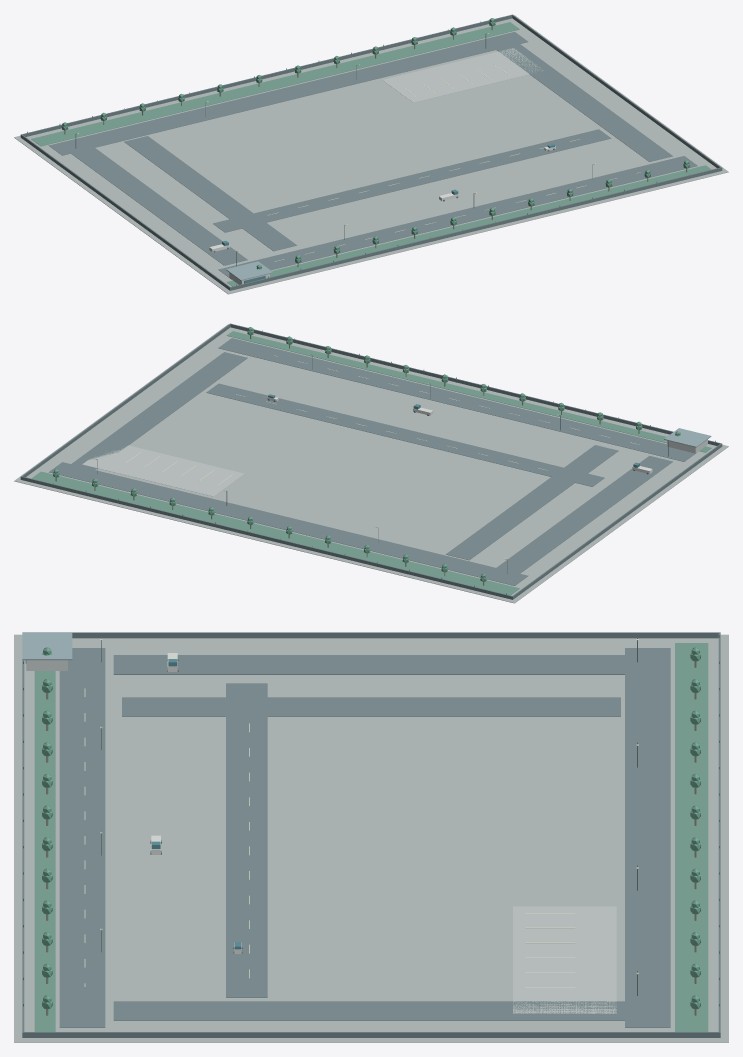
File: ground.glb
The picture shows the model from 3 angles, top to bottom: view 1: azimuth 30°, elevation 25°; view 2: azimuth 150°, elevation 25°; view 3: azimuth 270°, elevation 25°; orthographic projection. The views are drawn at different scales.
Parts seen in each view (by area): view 1: campus_base, campus_ring_road.001, campus_ring_road, landscape_verge, taizhou_cross_road, charging_pavement, campus_ring_road.003, campus_ring_road.002, taizhou_west_link, landscape_verge.001, campus_perimeter, campus_perimeter.001 (+3 smaller); view 2: campus_base, campus_ring_road, campus_ring_road.001, taizhou_cross_road, landscape_verge, charging_pavement, campus_ring_road.002, taizhou_west_link, campus_ring_road.003, landscape_verge.001, campus_perimeter.001, campus_perimeter (+3 smaller); view 3: campus_base, campus_ring_road, campus_ring_road.001, taizhou_cross_road, landscape_verge, charging_pavement, campus_ring_road.003, campus_ring_road.002, taizhou_west_link, landscape_verge.001, campus_perimeter.002, campus_perimeter.003 (+3 smaller).
Boxes of the visible parts, left/top/right/bottom form: campus_base: left=14, top=15, right=728, bottom=294; campus_ring_road.001: left=48, top=32, right=528, bottom=155; campus_ring_road: left=218, top=156, right=697, bottom=279; landscape_verge: left=31, top=22, right=519, bottom=146; taizhou_cross_road: left=213, top=129, right=611, bottom=232; charging_pavement: left=382, top=48, right=543, bottom=102; campus_ring_road.003: left=496, top=44, right=672, bottom=161; campus_ring_road.002: left=71, top=147, right=247, bottom=265; taizhou_west_link: left=124, top=136, right=296, bottom=251; landscape_verge.001: left=227, top=165, right=711, bottom=286; campus_perimeter: left=229, top=167, right=720, bottom=290; campus_perimeter.001: left=20, top=14, right=512, bottom=137; campus_base: left=14, top=324, right=728, bottom=603; campus_ring_road: left=218, top=338, right=697, bottom=461; campus_ring_road.001: left=49, top=462, right=528, bottom=585; taizhou_cross_road: left=206, top=383, right=604, bottom=486; landscape_verge: left=31, top=471, right=519, bottom=595; charging_pavement: left=82, top=445, right=244, bottom=496; campus_ring_road.002: left=496, top=455, right=672, bottom=573; taizhou_west_link: left=446, top=445, right=618, bottom=560; campus_ring_road.003: left=71, top=352, right=247, bottom=469; landscape_verge.001: left=226, top=331, right=711, bottom=452; campus_perimeter.001: left=20, top=476, right=513, bottom=599; campus_perimeter: left=230, top=323, right=722, bottom=446; campus_base: left=14, top=634, right=728, bottom=1042; campus_ring_road: left=59, top=648, right=105, bottom=1027; campus_ring_road.001: left=625, top=648, right=670, bottom=1027; taizhou_cross_road: left=226, top=683, right=267, bottom=997; landscape_verge: left=675, top=643, right=708, bottom=1031; charging_pavement: left=513, top=906, right=616, bottom=1013; campus_ring_road.003: left=113, top=1001, right=624, bottom=1020; campus_ring_road.002: left=113, top=655, right=624, bottom=674; taizhou_west_link: left=122, top=697, right=620, bottom=716; landscape_verge.001: left=34, top=671, right=55, bottom=1031; campus_perimeter.002: left=24, top=632, right=718, bottom=638; campus_perimeter.003: left=22, top=1032, right=719, bottom=1037.
Bounding box in the file's own units: 232 × 6.93 × 172.
